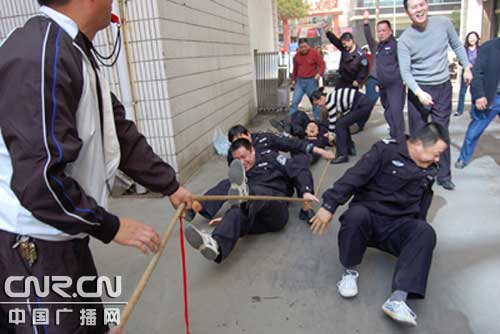fall: (221, 120, 335, 211)
